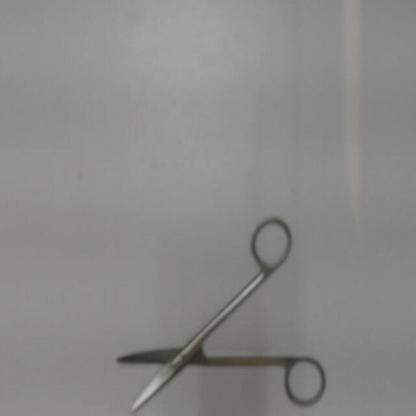Curved Mayo Scissors: (109, 210, 332, 414)
